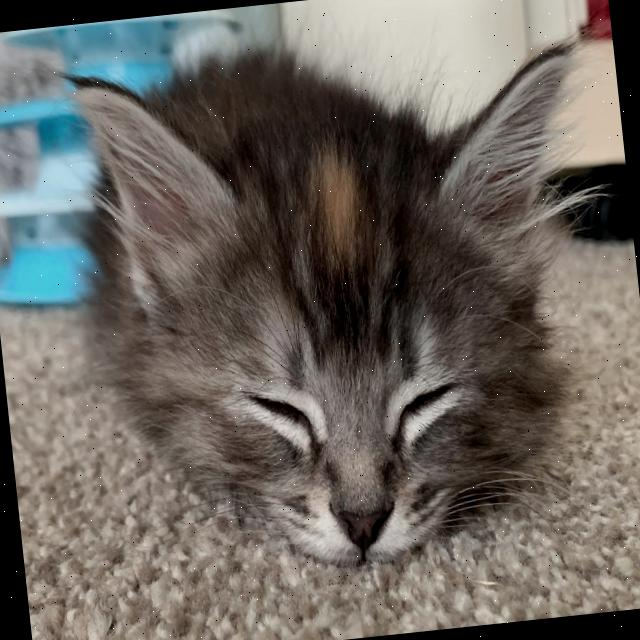domestic_long_hair_cat: (47, 0, 639, 615)
